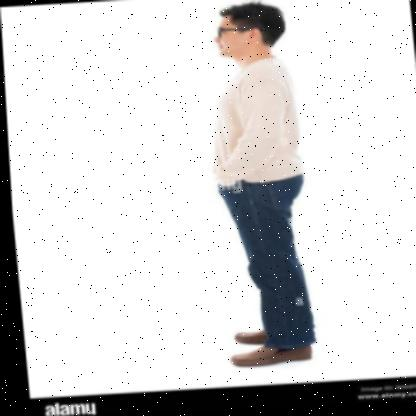person: (201, 2, 338, 369)
